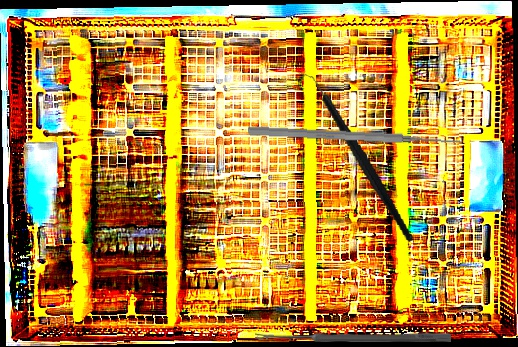Chopper: (295, 54, 415, 257)
Pusher: (247, 124, 463, 149)
Surgical Spoon: (255, 332, 451, 342)
